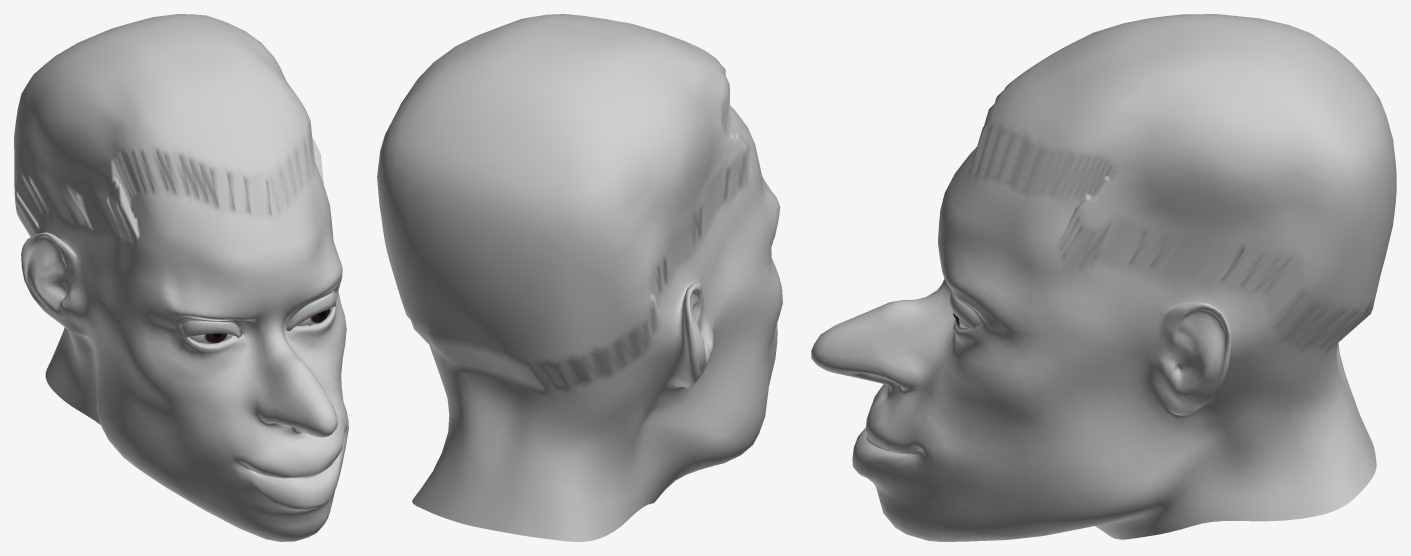
The model's file is Quandale_Dingle (2).FBX.
3 renders of one model, left to right at view 1: azimuth 30°, elevation 25°; view 2: azimuth 150°, elevation 25°; view 3: azimuth 270°, elevation 25°, orthographic. The views are drawn at different scales.
Parts seen in each view (by area): view 1: Quandale_Dingle_LOD2; view 2: Quandale_Dingle_LOD2; view 3: Quandale_Dingle_LOD2.
Boxes of the visible parts, <box> form: Quandale_Dingle_LOD2: <box>14,14,348,541</box>; Quandale_Dingle_LOD2: <box>377,14,782,541</box>; Quandale_Dingle_LOD2: <box>811,14,1396,541</box>.
Bounding box in the file's own units: 108 × 166 × 178.
